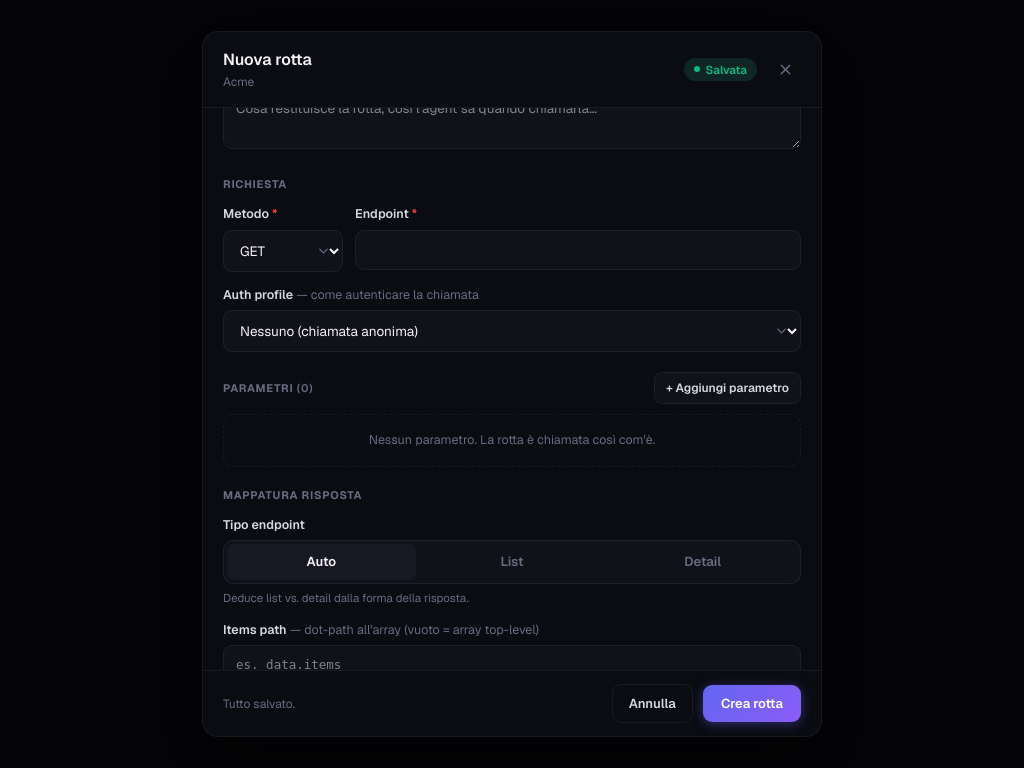
Test case: RouteConfigModal › param source toggles the conditional value / secret_ref field
This screenshot has width=1024, height=768.
(page scrolled)
Click the button with test id "api-route-form-param-add" at point(728, 388), box [654,372,801,404]
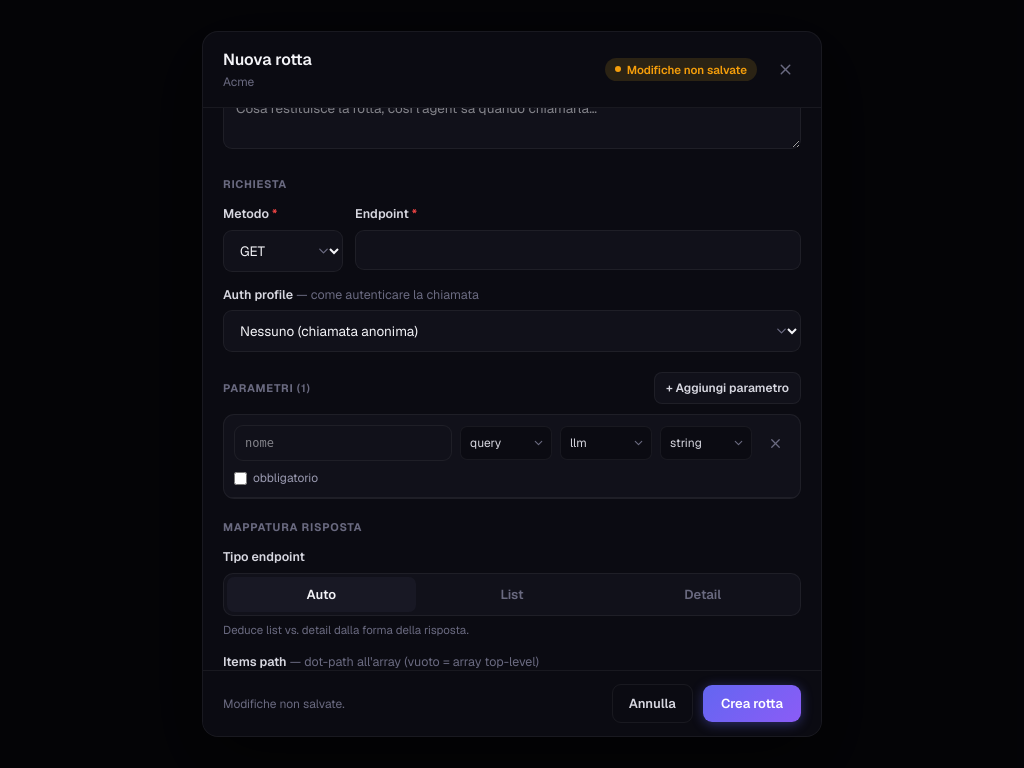
Select "secret" in the dropdown with test id "api-route-form-param-0-source" at point(606, 444), box [560,426,652,460]
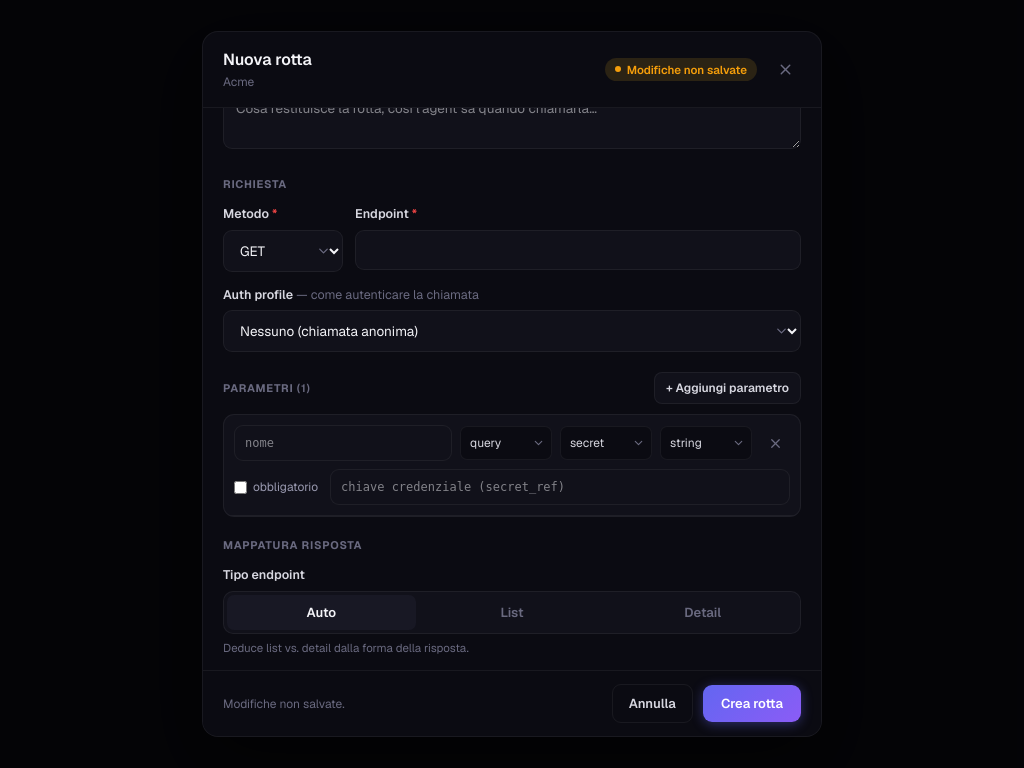
Check: the field with test id "api-route-form-param-0-secret_ref" is shown, box [330,470,790,506]
Select "fixed" in the dropdown with test id "api-route-form-param-0-source" at point(606, 444), box [560,426,652,460]
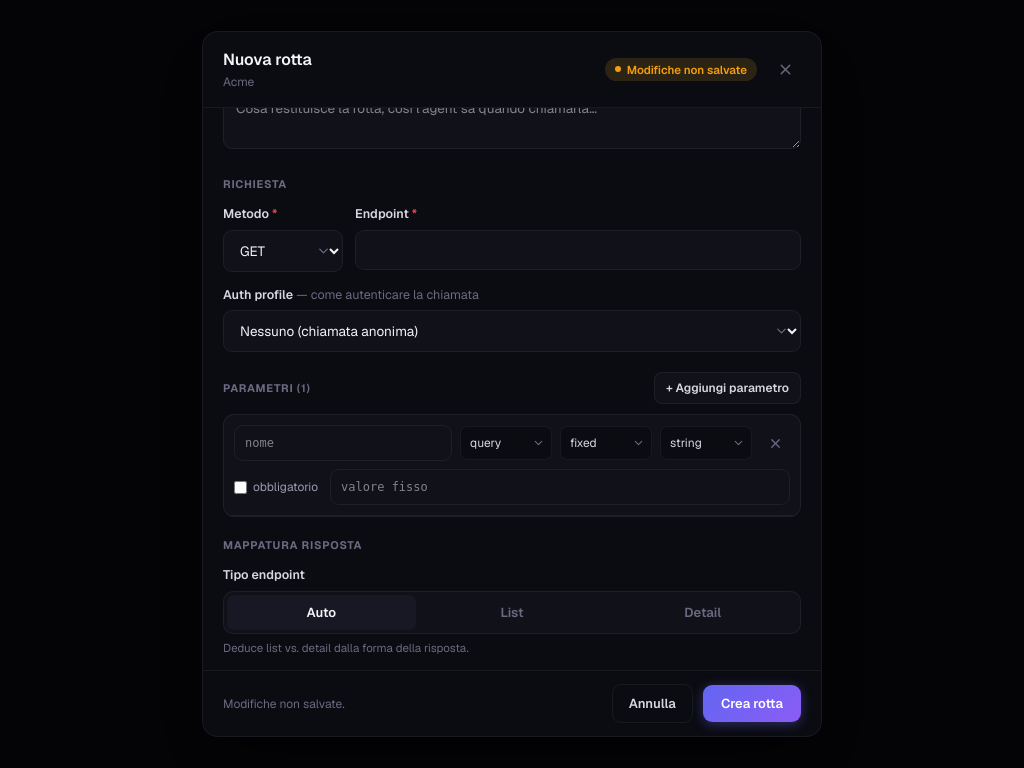
Check: the field with test id "api-route-form-param-0-value" is shown, box [330,470,790,506]
Check: the field with test id "api-route-form-param-0-secret_ref" is gone
